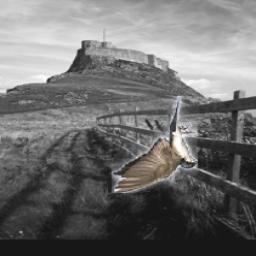Swallow: (113, 96, 199, 193)
